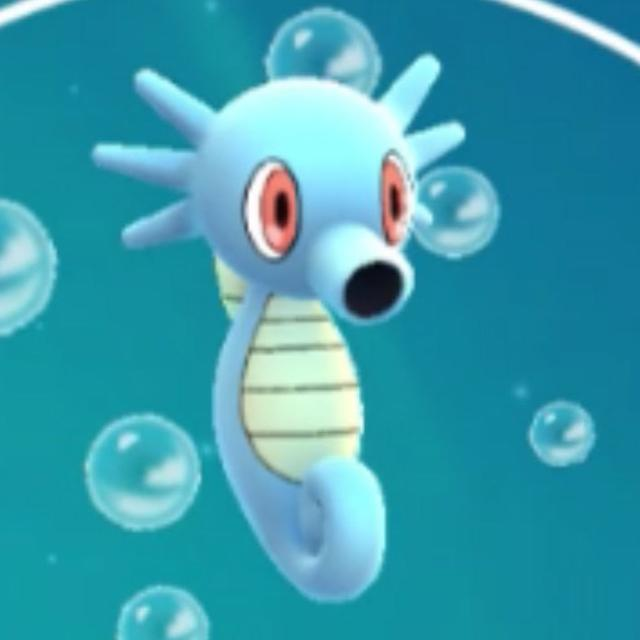Horsea: (129, 54, 459, 612)
